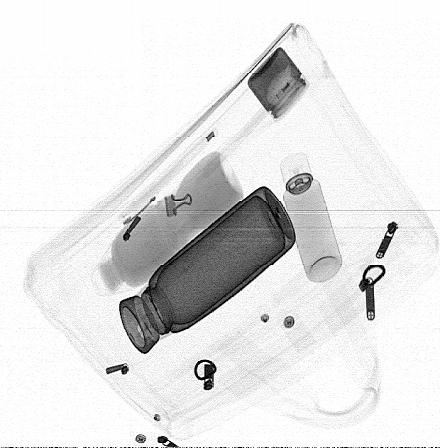Sprayer: (280, 153, 343, 284)
